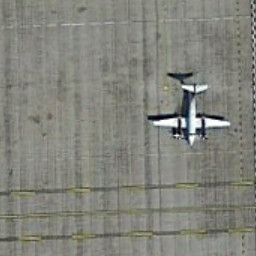Airplane: (146, 72, 236, 155)
